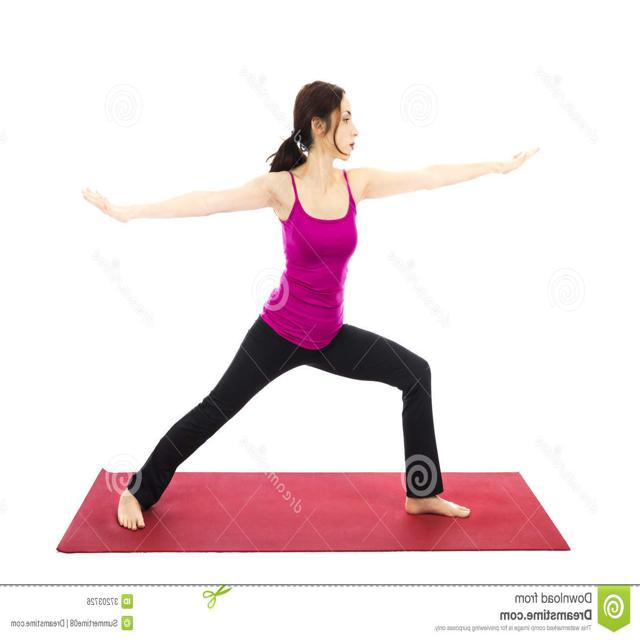Warrior_II: (66, 75, 545, 536)
